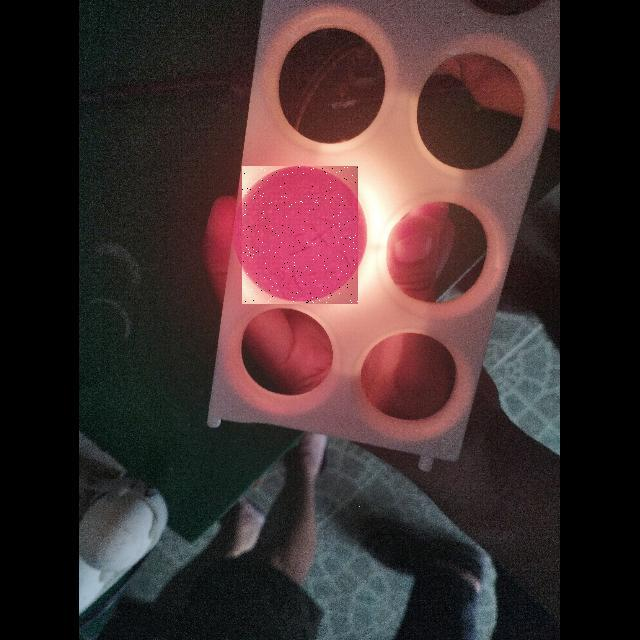Infertile: (242, 166, 358, 304)
